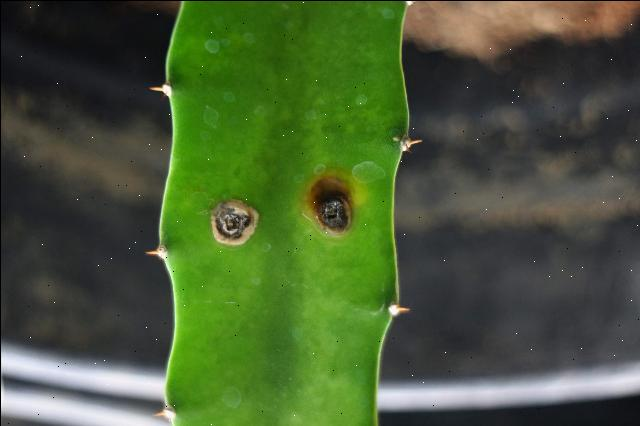stemcanker: (301, 170, 357, 239), (201, 196, 263, 249)
